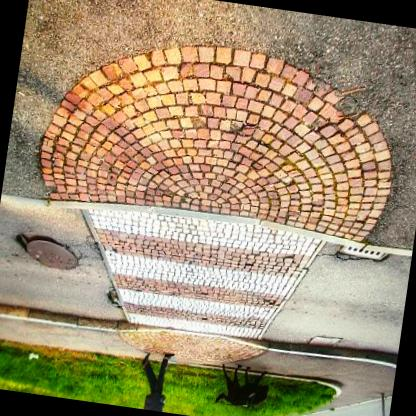manholes: (0, 204, 88, 283)
